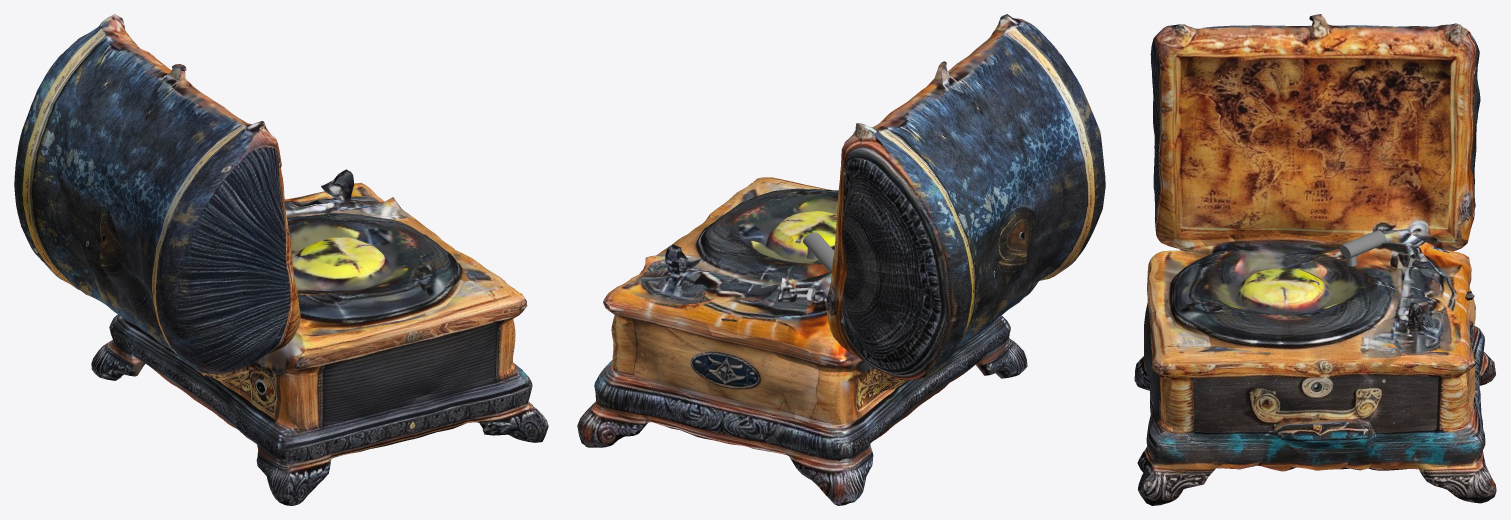
Rendered from chest.gltf.
3 views of the same model, side by side, from view 1: azimuth 30°, elevation 25°; view 2: azimuth 150°, elevation 25°; view 3: azimuth 270°, elevation 25° (orthographic). The views are drawn at different scales.
Visible parts, largest first — view 1: Cylinder001; view 2: Cylinder001; view 3: Cylinder001.
Part boxes in pixels (bbox=[...]): Cylinder001: bbox=[14, 14, 548, 505]; Cylinder001: bbox=[577, 14, 1105, 505]; Cylinder001: bbox=[1134, 14, 1496, 505].
Bounding box in the file's own units: 1.12 × 1.04 × 0.9381.
2 materials, 1 textured.
